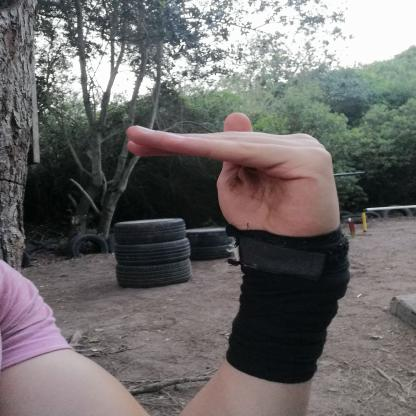KHAA: (99, 100, 364, 252)
